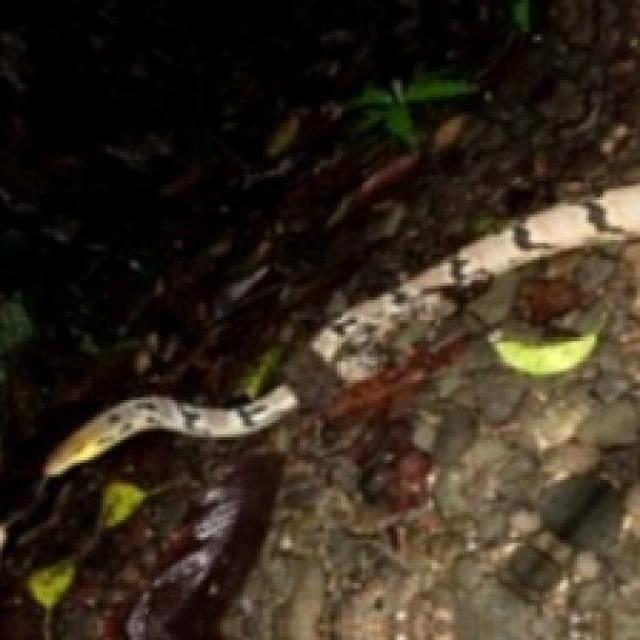dog-toothed cat snake: (310, 186, 640, 384), (43, 386, 294, 474)
